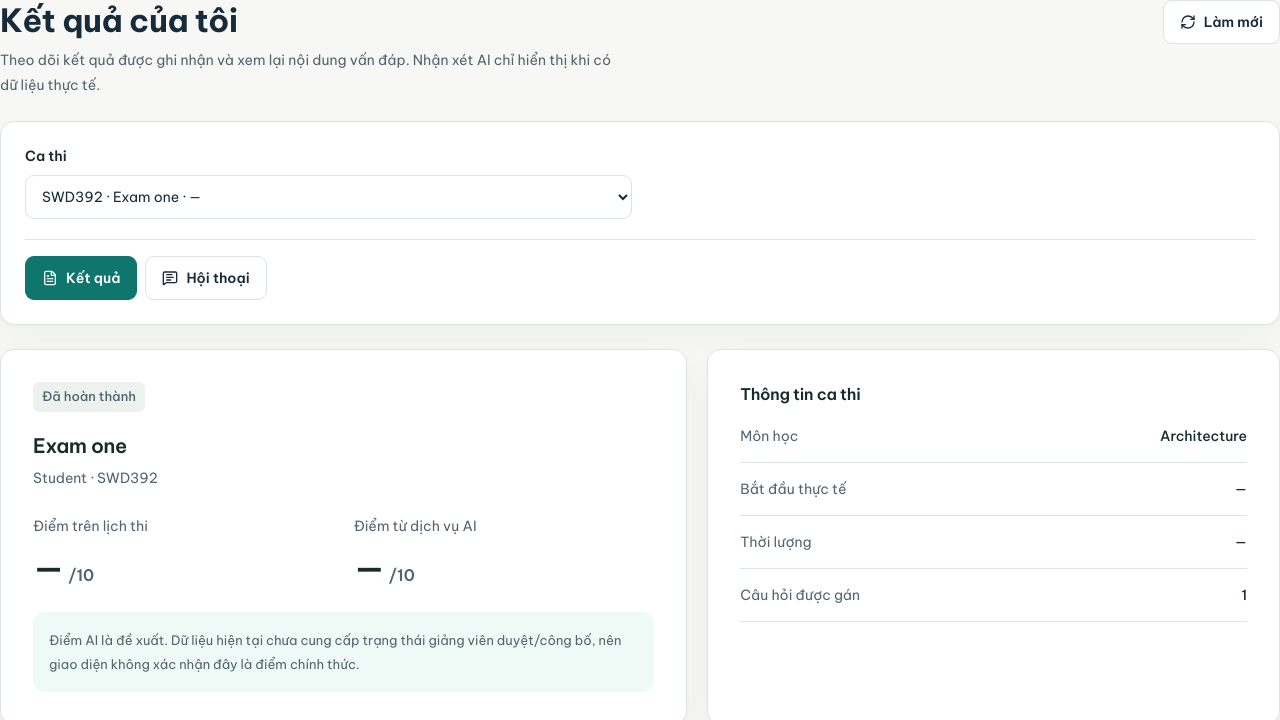
results exceptions and data integrity › ignores a late detail response after selecting a different schedule
Select "SWD392 · Exam two · —" in the dropdown labelled "Ca thi" at (328, 197), box [25,175,632,219]
(page scrolled)
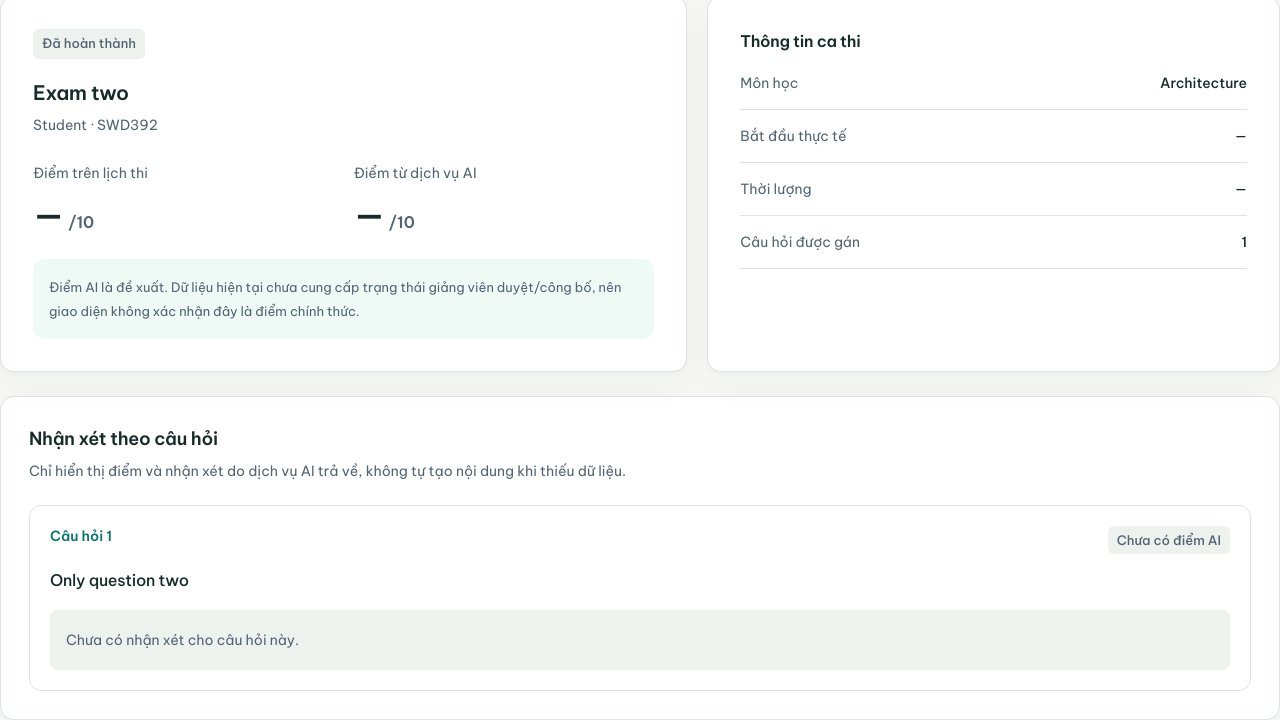
Now the heading "Only question two" is shown, box [50,570,189,590]
